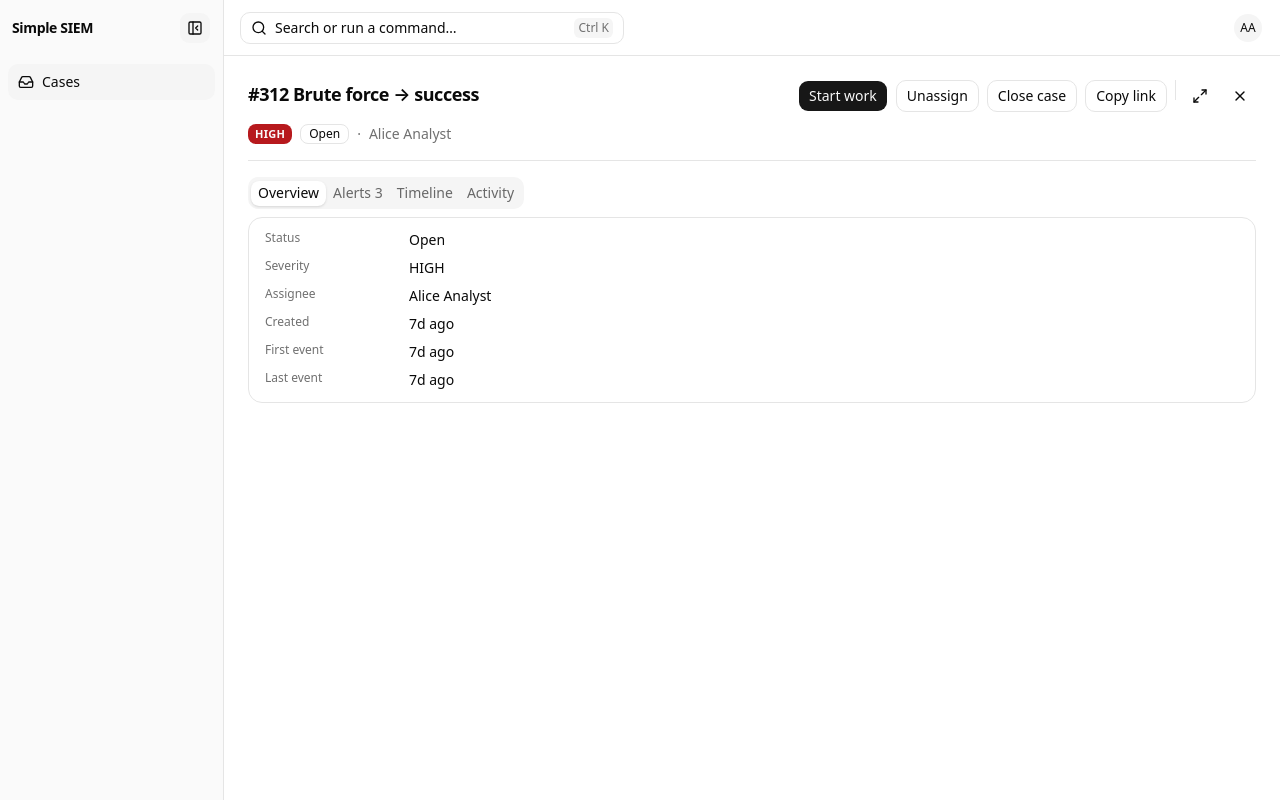
Test case: assign to me › starts work on my open case with my id and the case version
This screenshot has width=1280, height=800.
Step 1. Click the button "Start work" → click(843, 96), box [798,80,888,112]
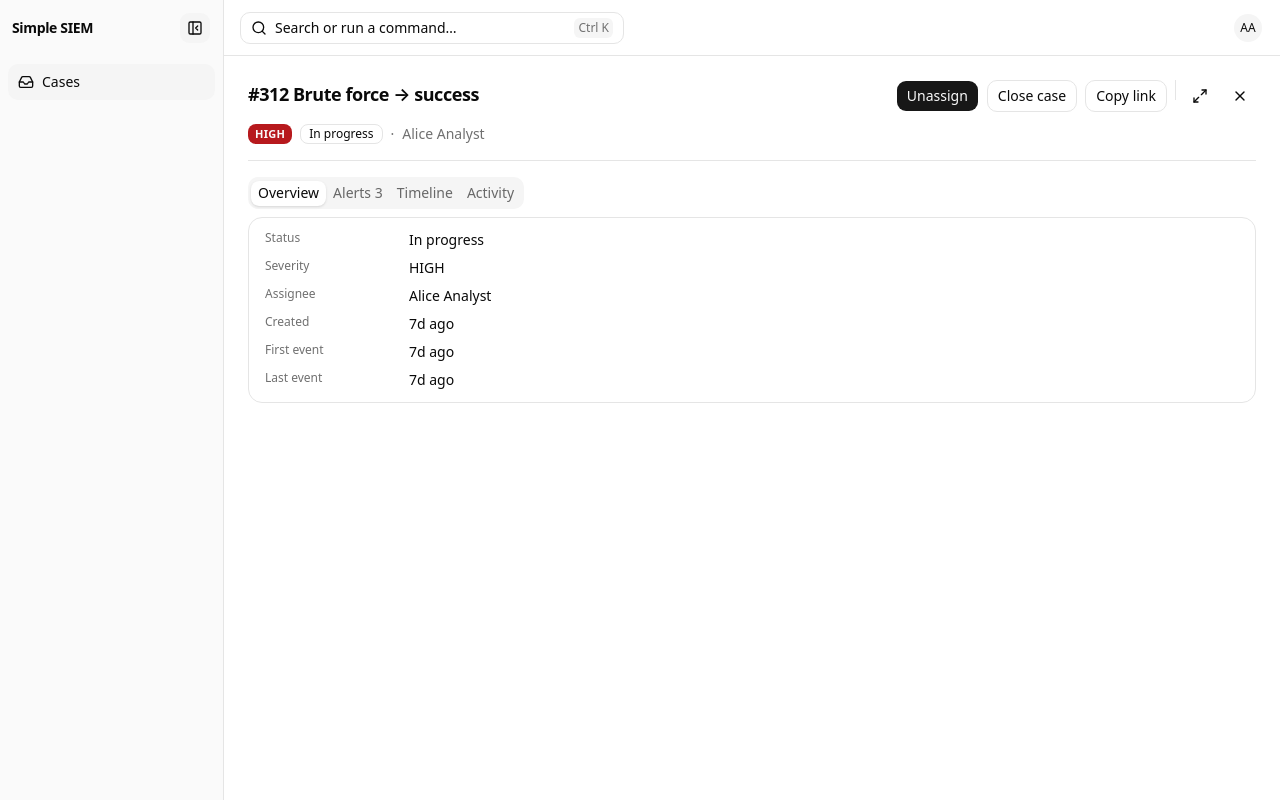
Expected: the button "Unassign" is shown, [896,80,979,112]
Expected: the button "Start work" is gone
